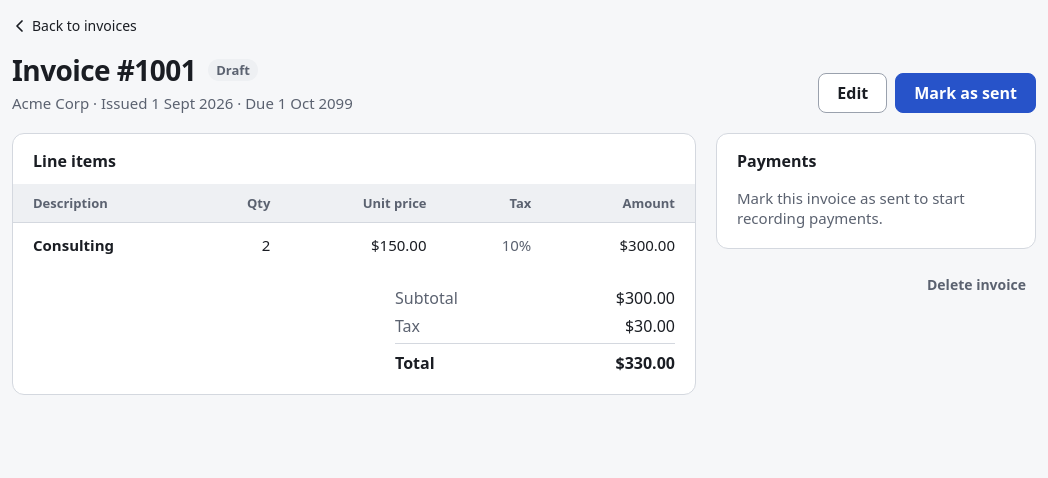
Test: InvoiceDetailPage › shows a conflict from the server when the invoice changed underneath
This screenshot has width=1048, height=478.
Click the button "Mark as sent": (966, 93) [895,73,1036,113]
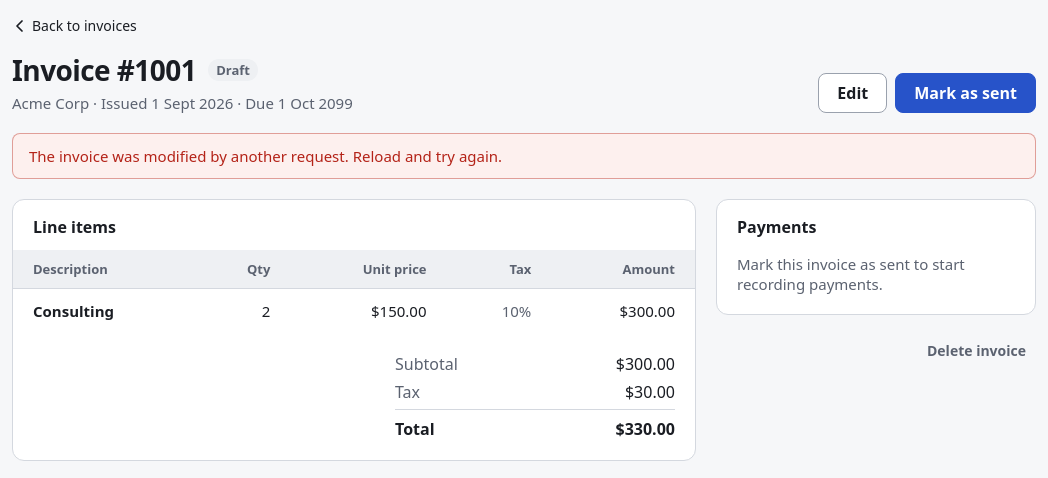
Now the message shows "modified by another request", box [29,146,502,166]
